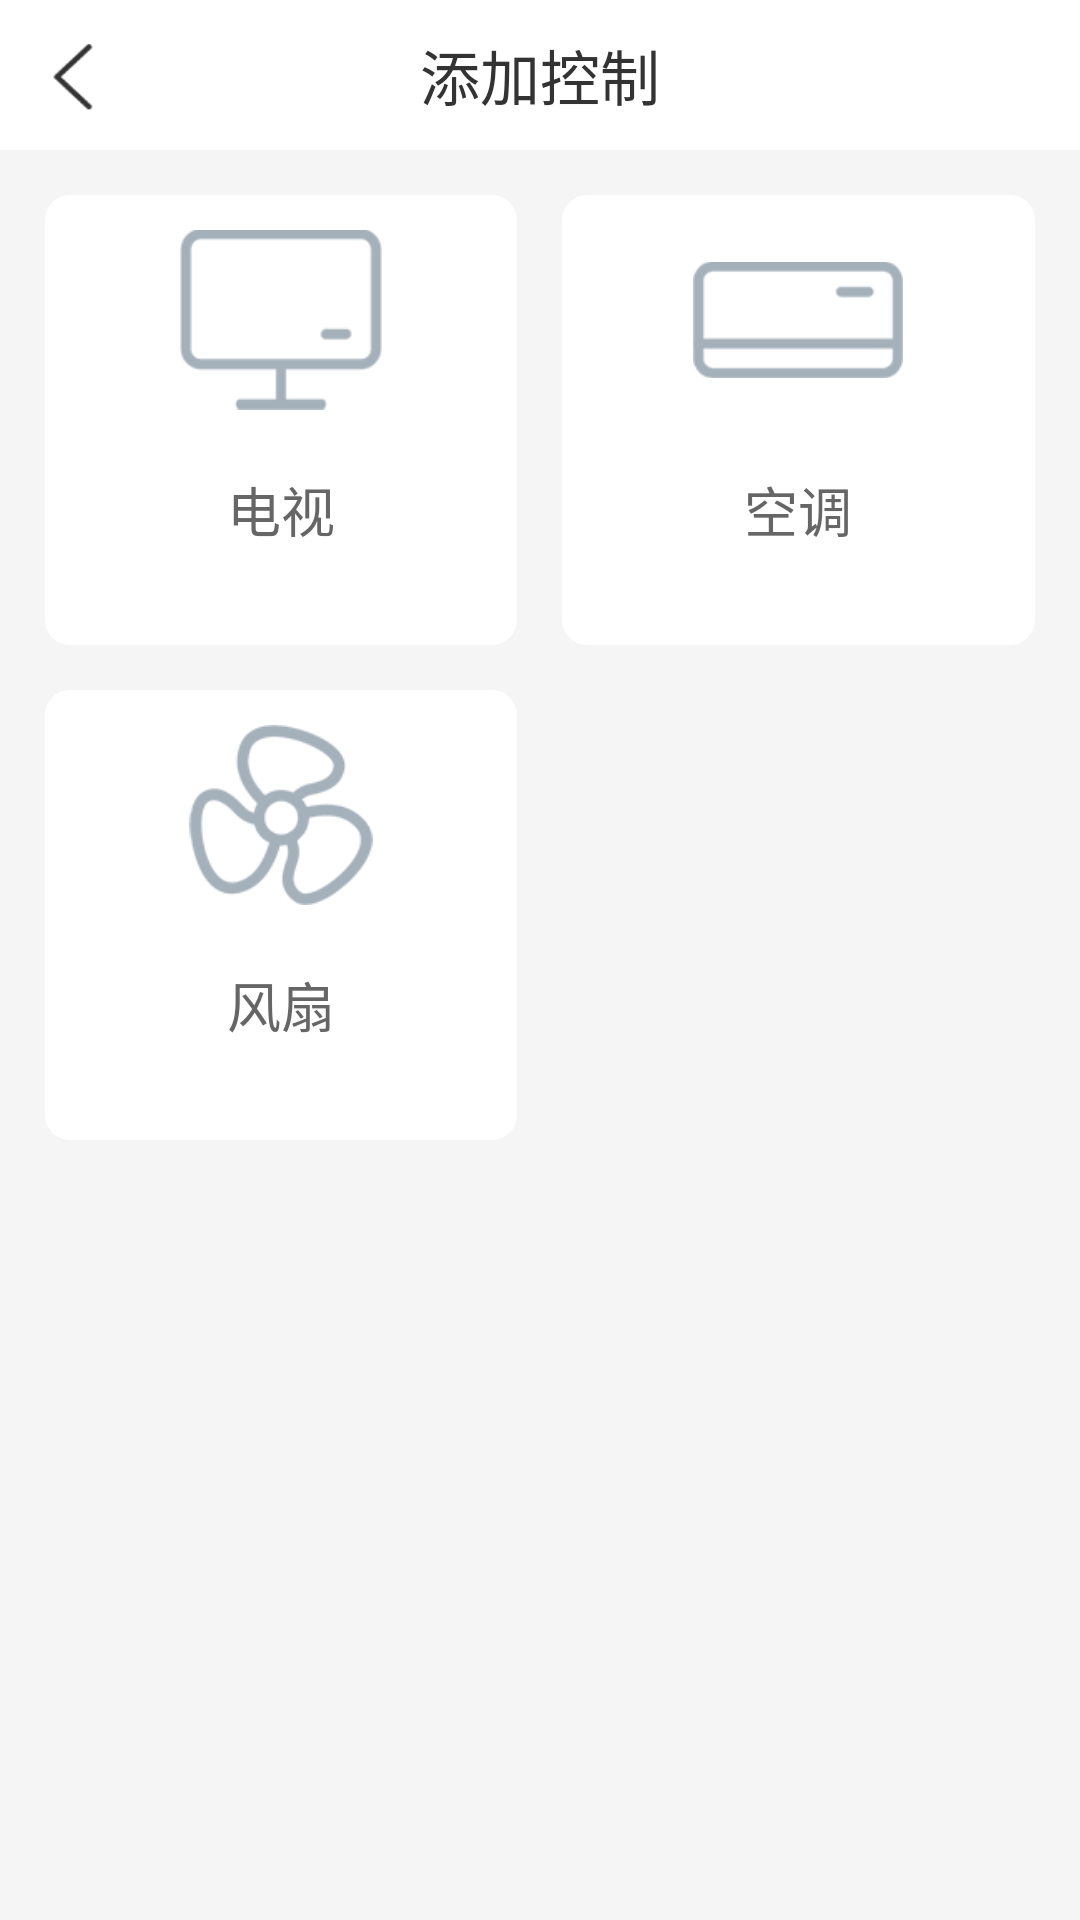

Where to tap for icons on this 1080px×1920px app screen, as (x=x, y=y):
back: (x=73, y=77)
fan: (x=281, y=815)
